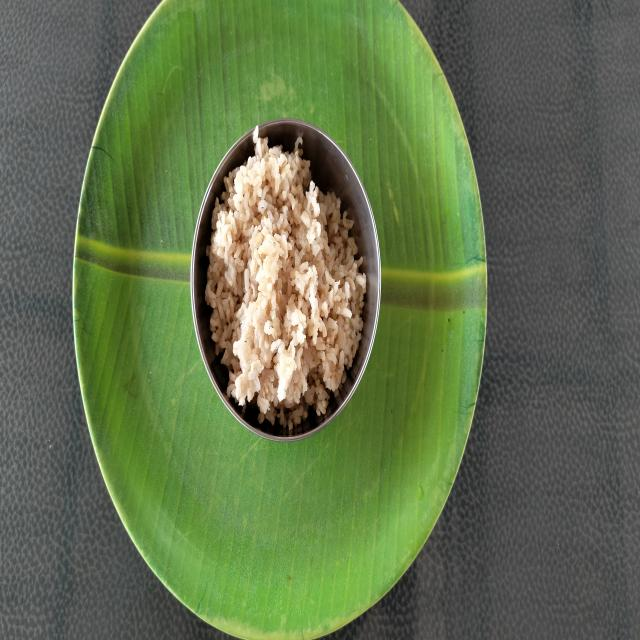brown-rice: (205, 129, 366, 432)
